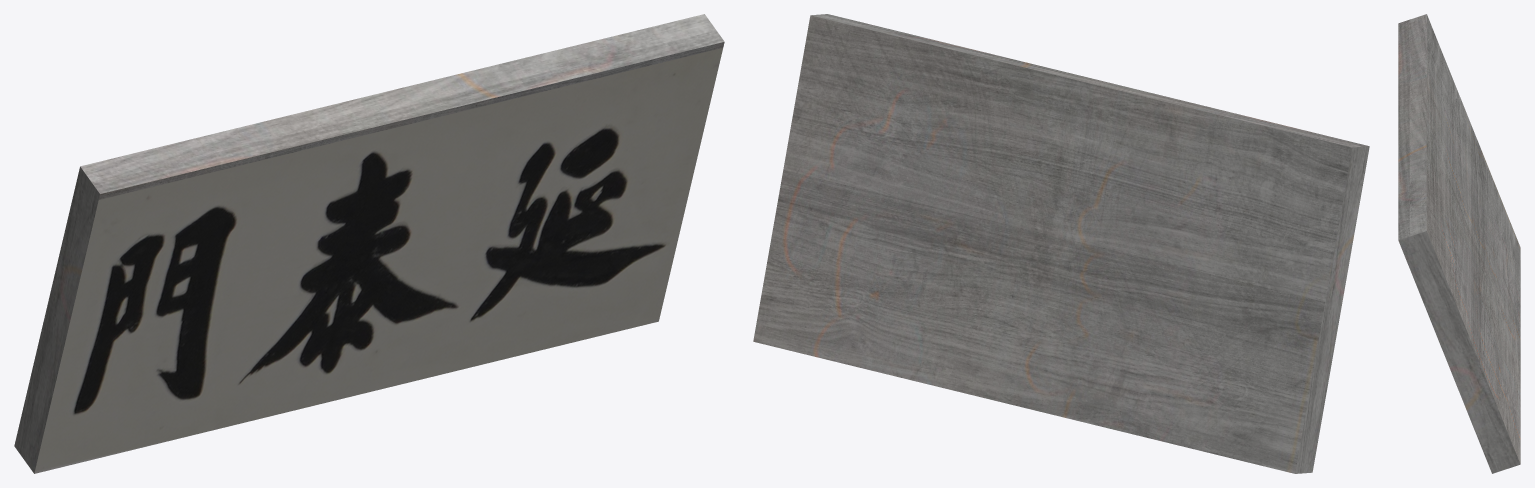
Rendered from SM_SJJ_HG_Stela03A.fbx.
3 views of the same model, side by side, from view 1: azimuth 30°, elevation 25°; view 2: azimuth 150°, elevation 25°; view 3: azimuth 270°, elevation 25° (orthographic). The views are drawn at different scales.
Visible parts, largest first — view 1: SM_SJJ_HG_Stela03A; view 2: SM_SJJ_HG_Stela03A; view 3: SM_SJJ_HG_Stela03A.
Part boxes in pixels (x1,y1,x2,y2): SM_SJJ_HG_Stela03A: [14, 14, 724, 473]; SM_SJJ_HG_Stela03A: [753, 14, 1369, 473]; SM_SJJ_HG_Stela03A: [1398, 14, 1520, 473].
Size of the model in its own units: 57.08 by 13.59 by 29.79.
Materials: 1 (1 with a texture image).
